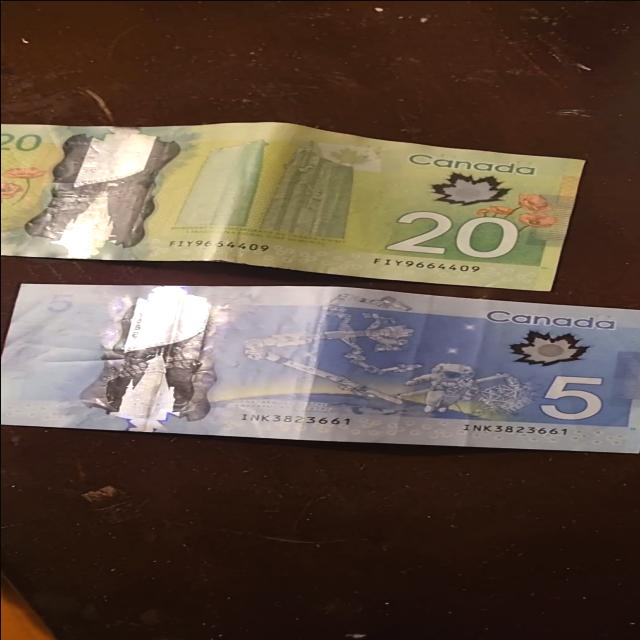20 cad: (0, 121, 586, 288)
5 cad: (17, 281, 640, 457)
